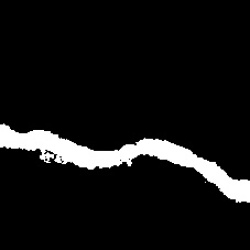crack: (3, 123, 247, 203)
